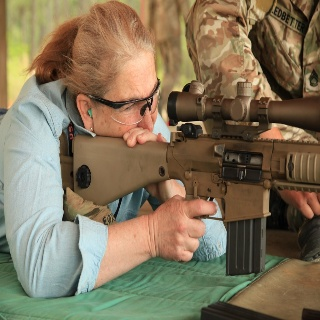rifle: (71, 79, 320, 278)
